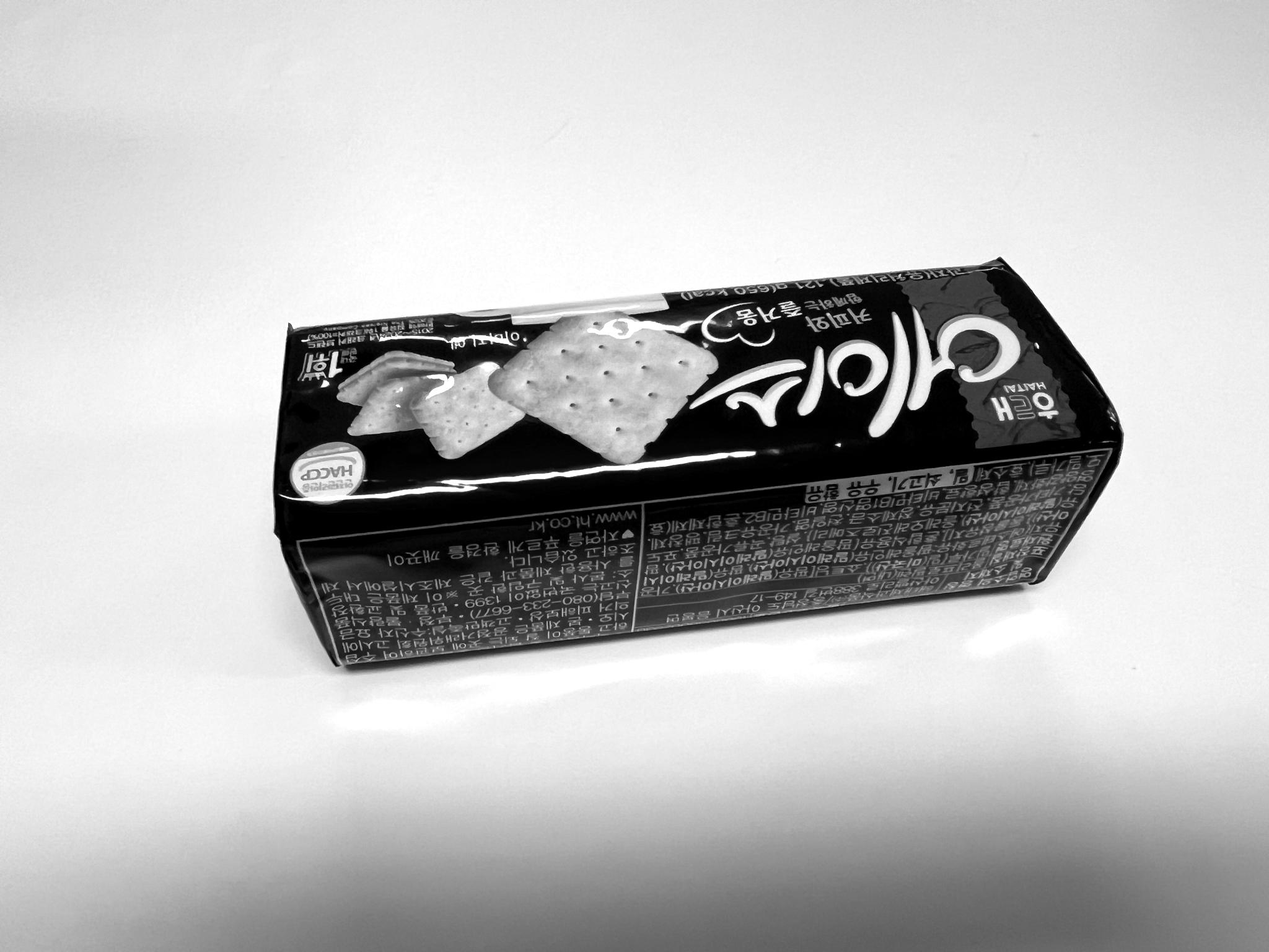cracker_ace: (274, 255, 1125, 667)
